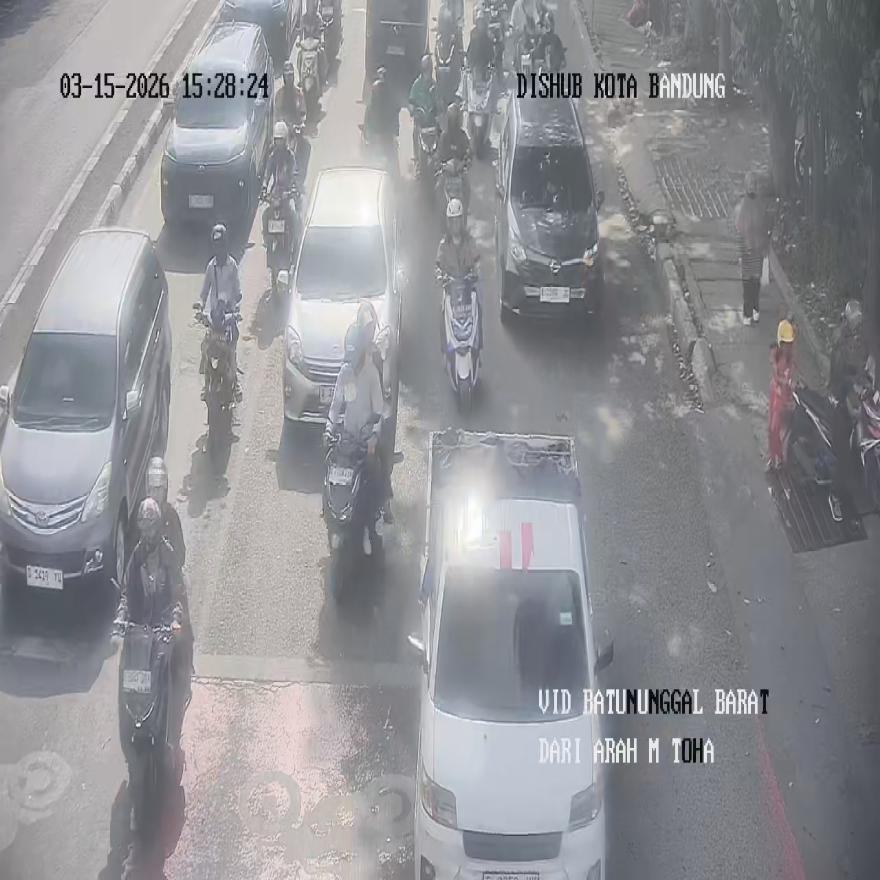Mobil: (412, 431, 612, 876), (0, 228, 172, 598), (282, 168, 406, 426), (494, 88, 604, 320), (160, 20, 274, 226)
Motor: (117, 616, 183, 837), (323, 416, 388, 602), (194, 300, 241, 470), (787, 382, 842, 520), (441, 272, 480, 410), (767, 319, 798, 472), (848, 383, 880, 512), (263, 187, 298, 302), (462, 64, 498, 158), (275, 60, 305, 167), (432, 19, 459, 112), (295, 38, 324, 123), (439, 155, 470, 229), (317, 0, 343, 73), (413, 116, 438, 183)
